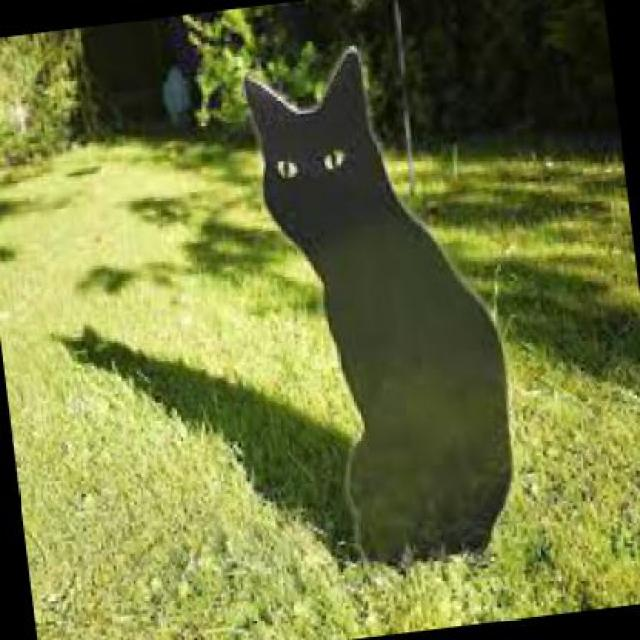animals: (234, 19, 546, 593)
